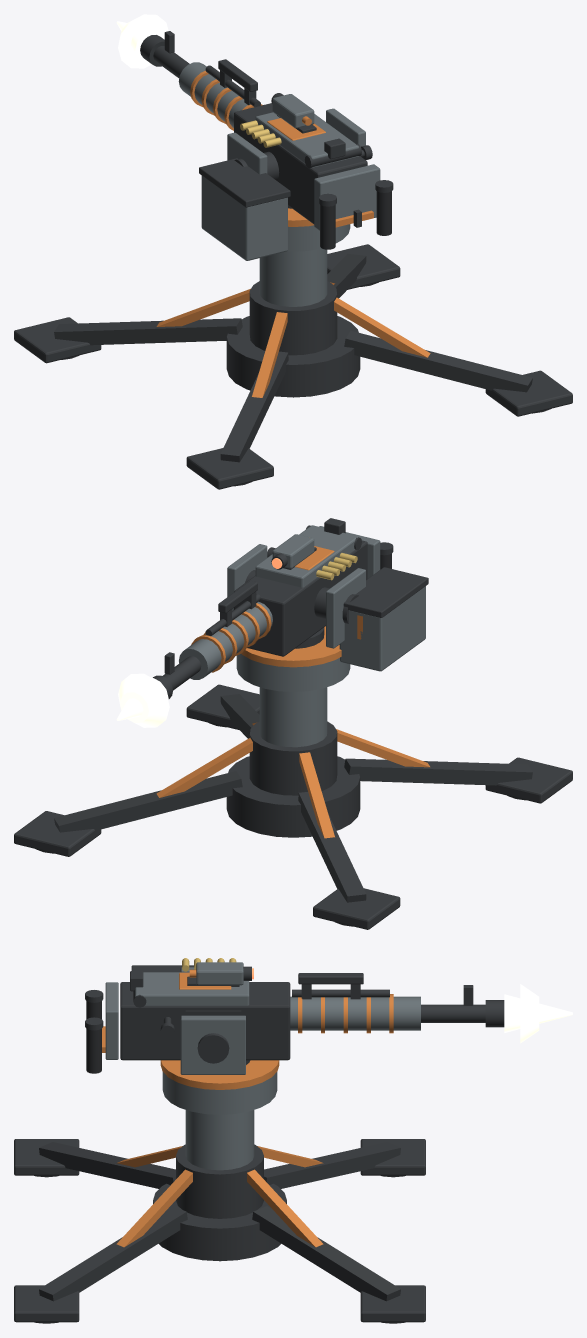
Rendered from SentryMachineGun.fbx.
3 views of the same model, one above another, from view 1: azimuth 30°, elevation 25°; view 2: azimuth 150°, elevation 25°; view 3: azimuth 270°, elevation 25° (orthographic).
Parts seen in each view (by area): view 1: Base_Hub, Gun_Ammo_Box, Base_Pedestal_Sleeve, Base_Leg_RR, Base_Leg_FR, Base_Pedestal, Gun_Receiver, Gun_Rear_Plate, Gun_Ammo_Box_Lid, Base_Leg_RL, Base_Foot_RL, Base_Foot_RR (+16 smaller); view 2: Base_Hub, Gun_Receiver, Gun_Ammo_Box, Base_Pedestal_Sleeve, Base_Leg_FL, Base_Leg_RL, Base_Pedestal, Base_Collar, Gun_Ammo_Box_Lid, Base_Leg_FR, Base_Foot_FR, Gun_Barrel_Shroud (+17 smaller); view 3: Gun_Receiver, Base_Hub, Base_Pedestal_Sleeve, Base_Pedestal, Gun_Barrel_Shroud, Base_Leg_RR, Base_Leg_FL, Gun_Yoke_Right, Base_Collar, Base_Leg_RL, Base_Leg_FR, Gun_Top_Cover (+19 smaller).
Part boxes in pixels (x1=…): Base_Hub: x1=226, y1=316, x2=360, y2=397; Gun_Ammo_Box: x1=201, y1=175, x2=287, y2=260; Base_Pedestal_Sleeve: x1=249, y1=281, x2=337, y2=355; Base_Leg_RR: x1=344, y1=330, x2=532, y2=392; Base_Leg_FR: x1=54, y1=318, x2=242, y2=345; Base_Pedestal: x1=259, y1=248, x2=327, y2=306; Gun_Receiver: x1=234, y1=103, x2=367, y2=224; Gun_Rear_Plate: x1=314, y1=164, x2=380, y2=230; Gun_Ammo_Box_Lid: x1=199, y1=158, x2=290, y2=207; Base_Leg_RL: x1=220, y1=351, x2=288, y2=462; Base_Foot_RL: x1=186, y1=448, x2=273, y2=489; Base_Foot_RR: x1=485, y1=370, x2=572, y2=416; Base_Hub: x1=226, y1=756, x2=360, y2=837; Gun_Receiver: x1=234, y1=540, x2=367, y2=656; Gun_Ammo_Box: x1=339, y1=586, x2=425, y2=671; Base_Pedestal_Sleeve: x1=249, y1=721, x2=337, y2=795; Base_Leg_FL: x1=54, y1=771, x2=242, y2=832; Base_Leg_RL: x1=344, y1=758, x2=532, y2=785; Base_Pedestal: x1=259, y1=687, x2=327, y2=747; Base_Collar: x1=236, y1=654, x2=350, y2=691; Gun_Ammo_Box_Lid: x1=343, y1=567, x2=428, y2=617; Base_Leg_FR: x1=298, y1=792, x2=366, y2=902; Base_Foot_FR: x1=313, y1=888, x2=400, y2=929; Gun_Barrel_Shroud: x1=179, y1=601, x2=272, y2=679; Gun_Receiver: x1=120, y1=982, x2=290, y2=1060; Base_Hub: x1=153, y1=1183, x2=286, y2=1261; Base_Pedestal_Sleeve: x1=176, y1=1144, x2=263, y2=1218; Base_Pedestal: x1=185, y1=1110, x2=254, y2=1170; Gun_Barrel_Shroud: x1=290, y1=996, x2=420, y2=1030; Base_Leg_RR: x1=39, y1=1206, x2=187, y2=1301; Base_Leg_FL: x1=252, y1=1206, x2=400, y2=1301; Gun_Yoke_Right: x1=180, y1=1015, x2=245, y2=1074; Base_Collar: x1=162, y1=1072, x2=277, y2=1114; Base_Leg_RL: x1=39, y1=1142, x2=175, y2=1188; Base_Leg_FR: x1=264, y1=1142, x2=400, y2=1188; Gun_Top_Cover: x1=135, y1=972, x2=249, y2=1005.
Size of the model in its own units: 1.26 by 0.92 by 1.71.
